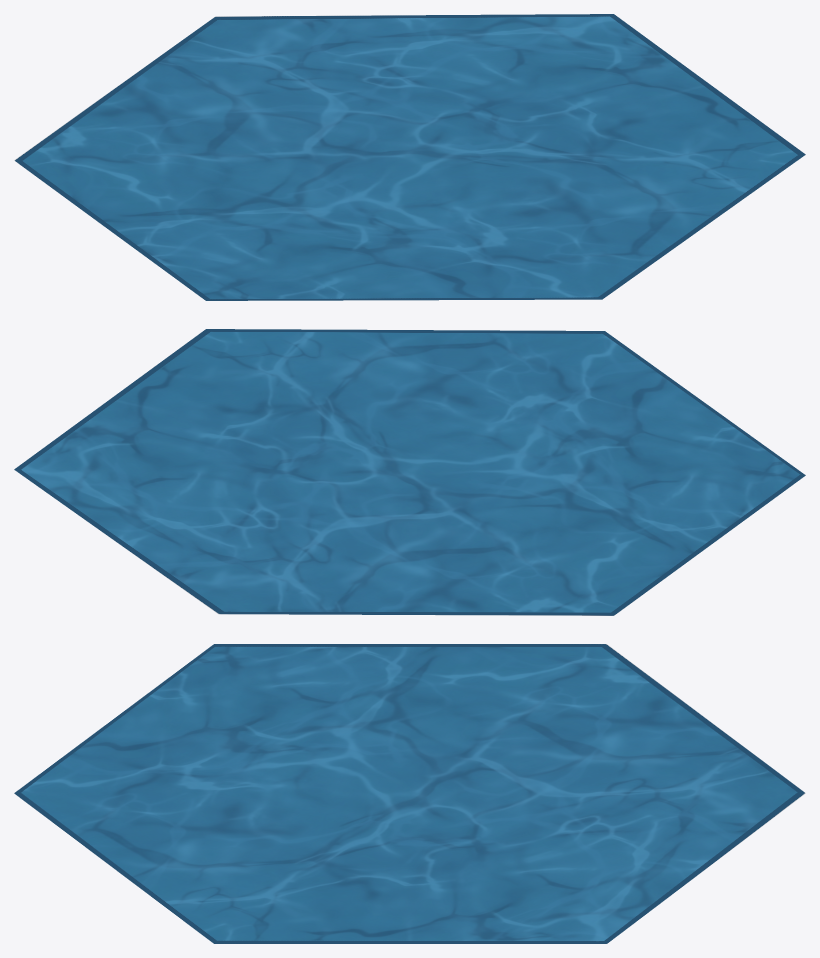
Rendered from River Tile.fbx.
3 renders of one model, top to bottom at view 1: azimuth 30°, elevation 25°; view 2: azimuth 150°, elevation 25°; view 3: azimuth 270°, elevation 25°, orthographic. The views are drawn at different scales.
Visible parts, largest first — view 1: Plane; view 2: Plane; view 3: Plane.
Part boxes in pixels (left/top/right/bottom): Plane: left=14, top=14, right=805, bottom=300; Plane: left=14, top=329, right=805, bottom=615; Plane: left=14, top=644, right=805, bottom=943.
Bounding box in the file's own units: 179 × 3.26e-05 × 200.
Materials: 1 (1 with a texture image).
